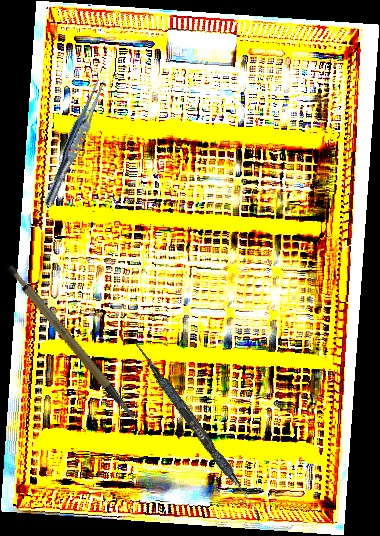Scalpel Handle: (3, 251, 136, 436)
Spatula Surgical: (128, 339, 269, 522)
Tissue Forceps: (40, 73, 110, 211)
